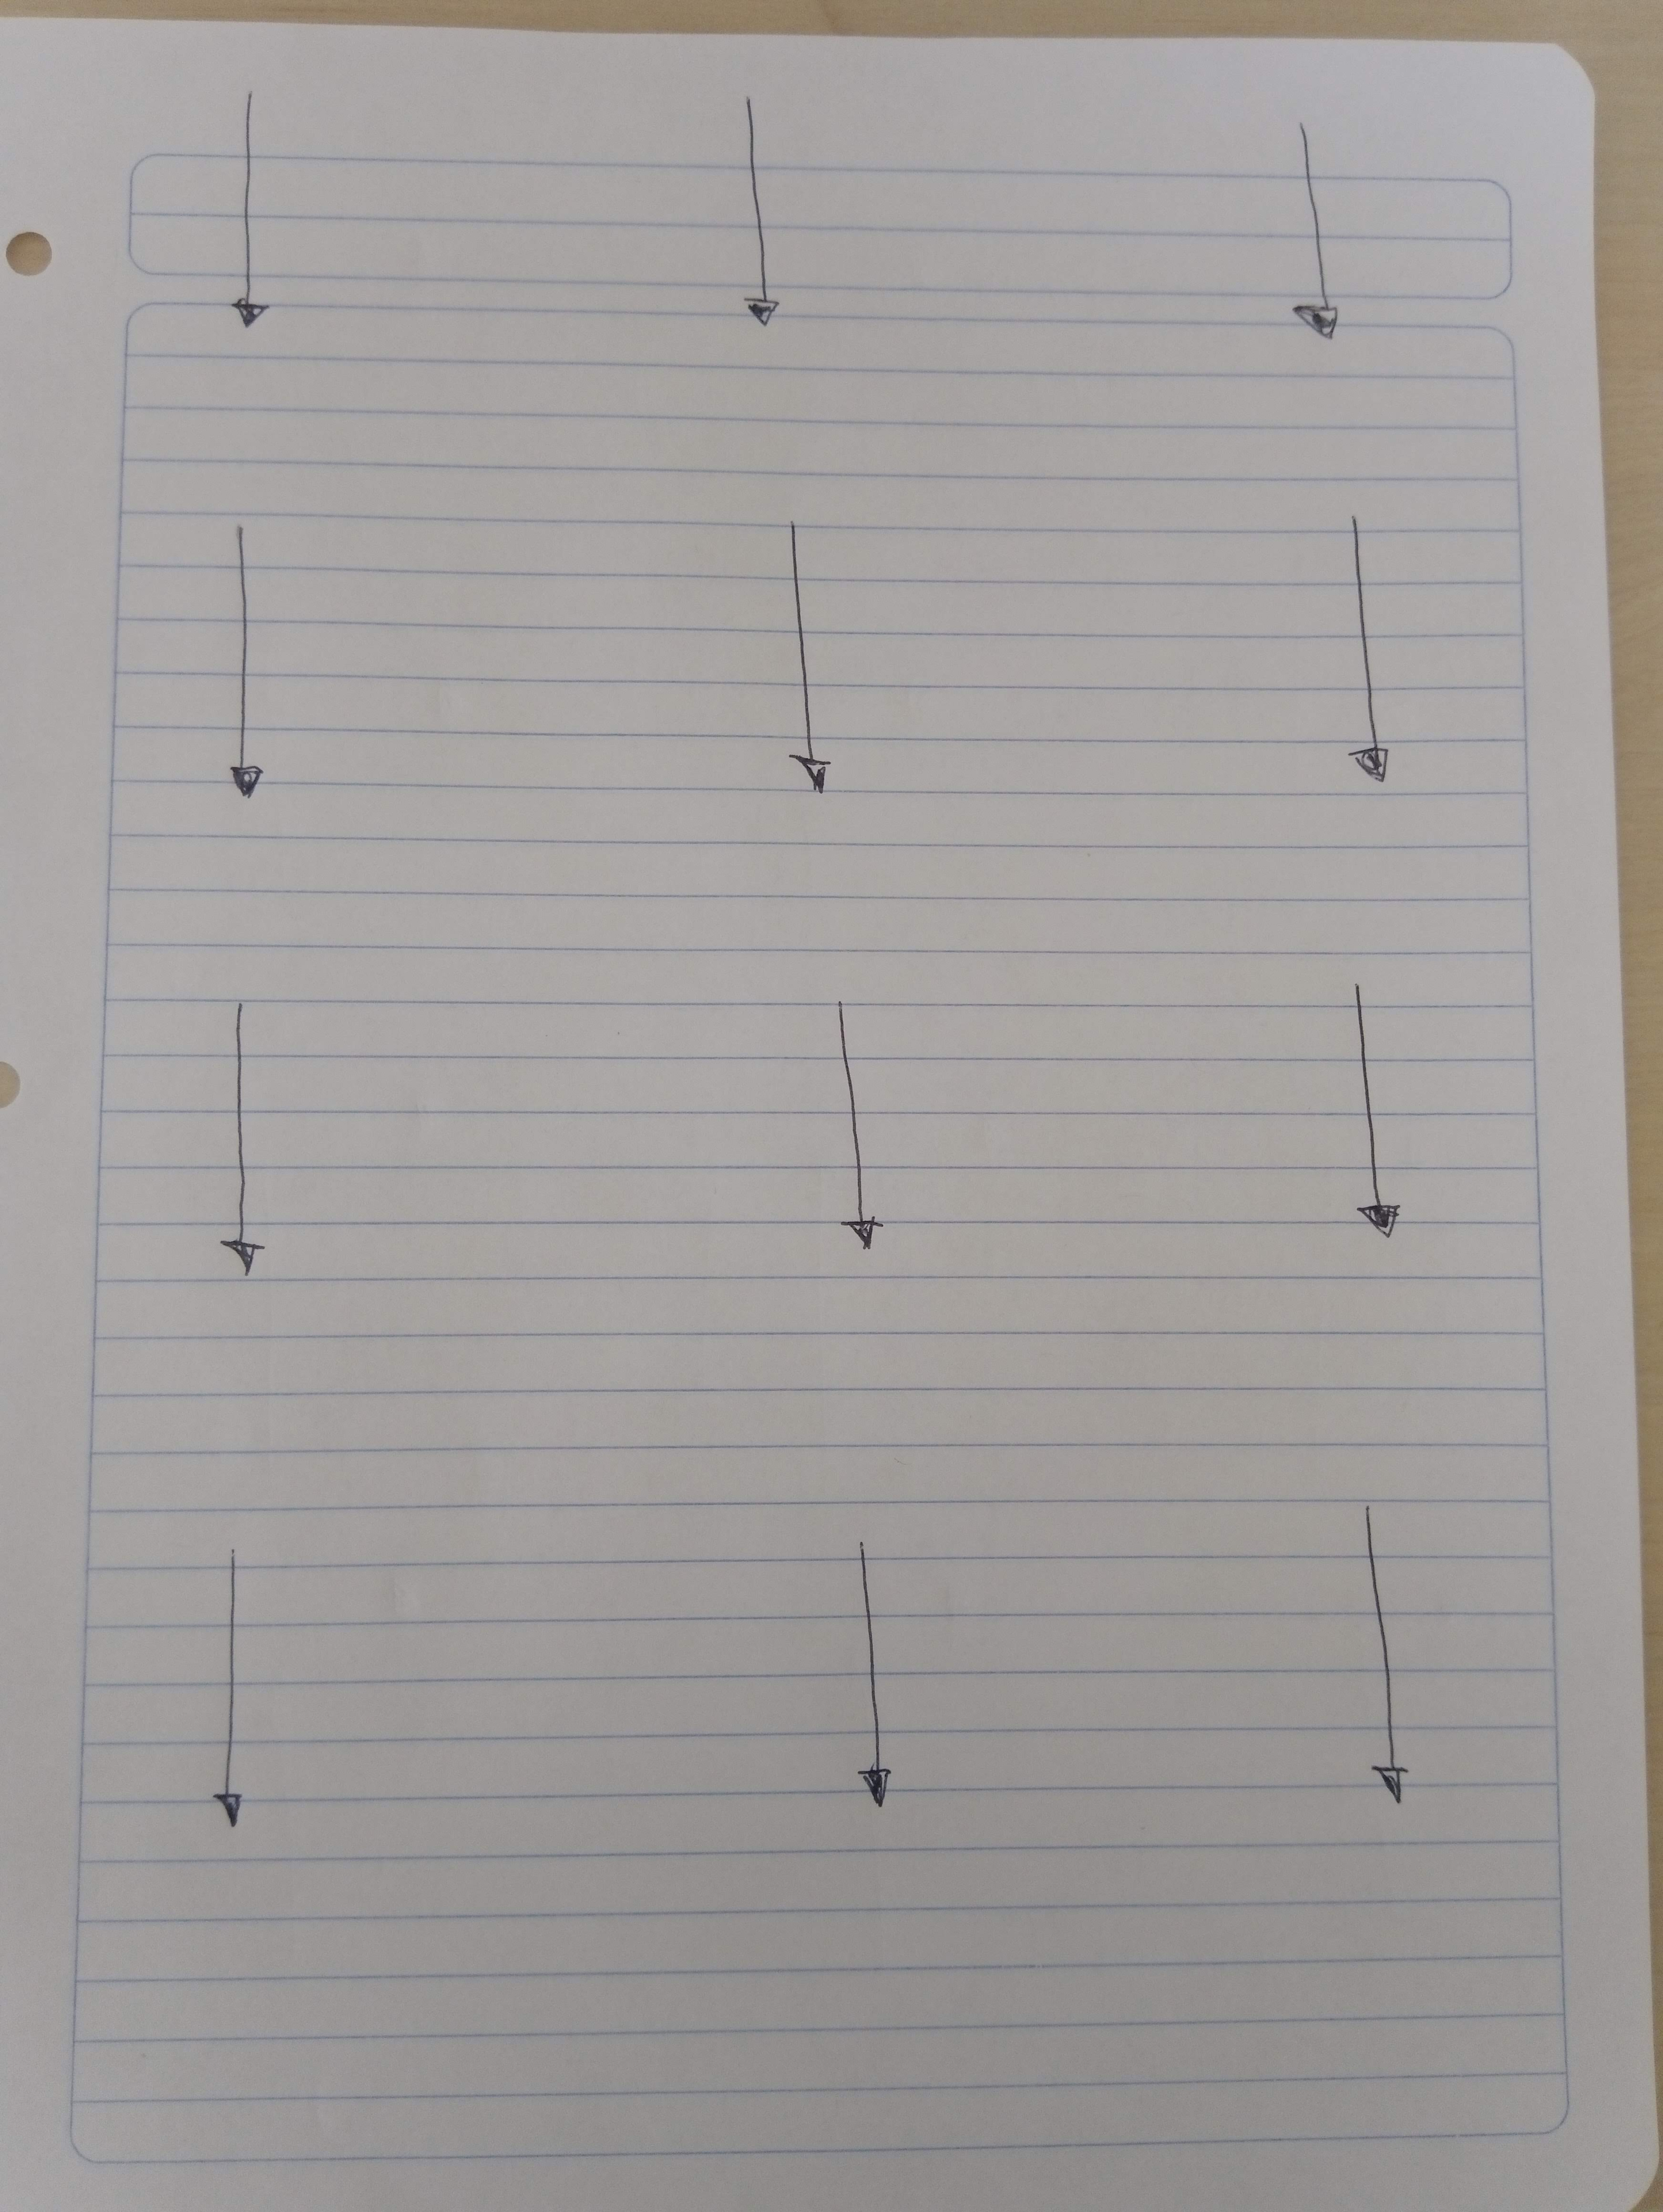arrow_line_down: (800, 1011, 928, 1274), (183, 1535, 286, 1854), (1343, 1517, 1450, 1821), (190, 86, 313, 344), (826, 1528, 917, 1828), (196, 992, 286, 1285), (1335, 971, 1424, 1252), (1324, 508, 1410, 791), (774, 526, 856, 812), (196, 508, 273, 805), (720, 94, 807, 347), (1277, 119, 1361, 361)
